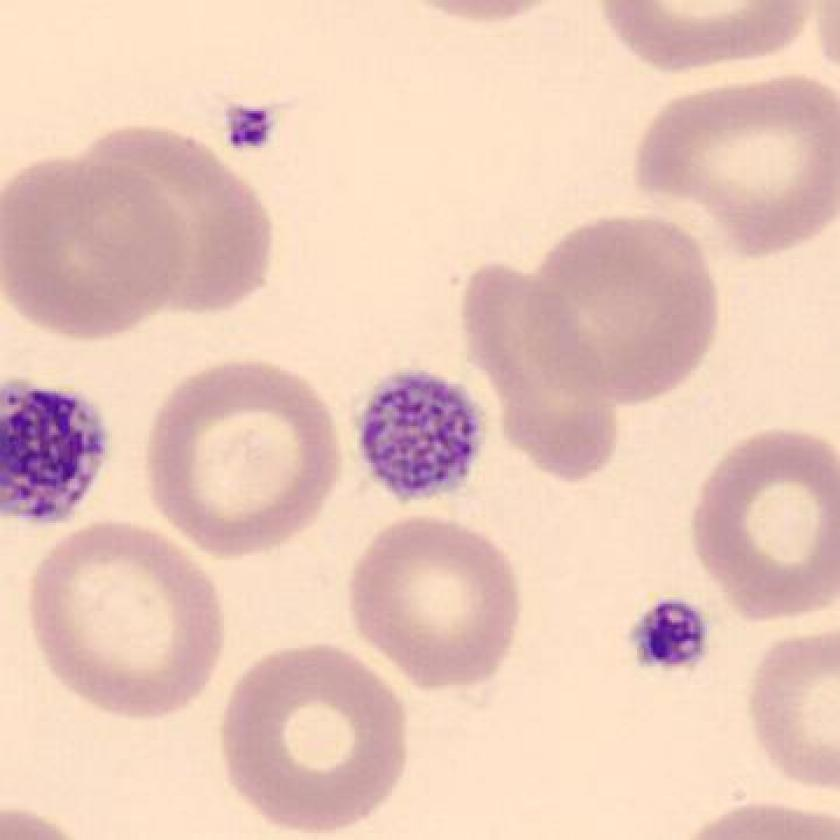platelets: (340, 355, 501, 519), (1, 369, 127, 542), (619, 591, 720, 686), (207, 89, 291, 170)
